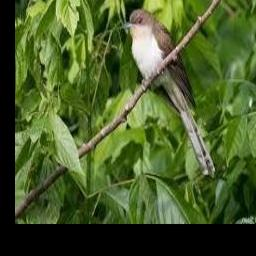Cuckoo: (124, 9, 217, 177)
